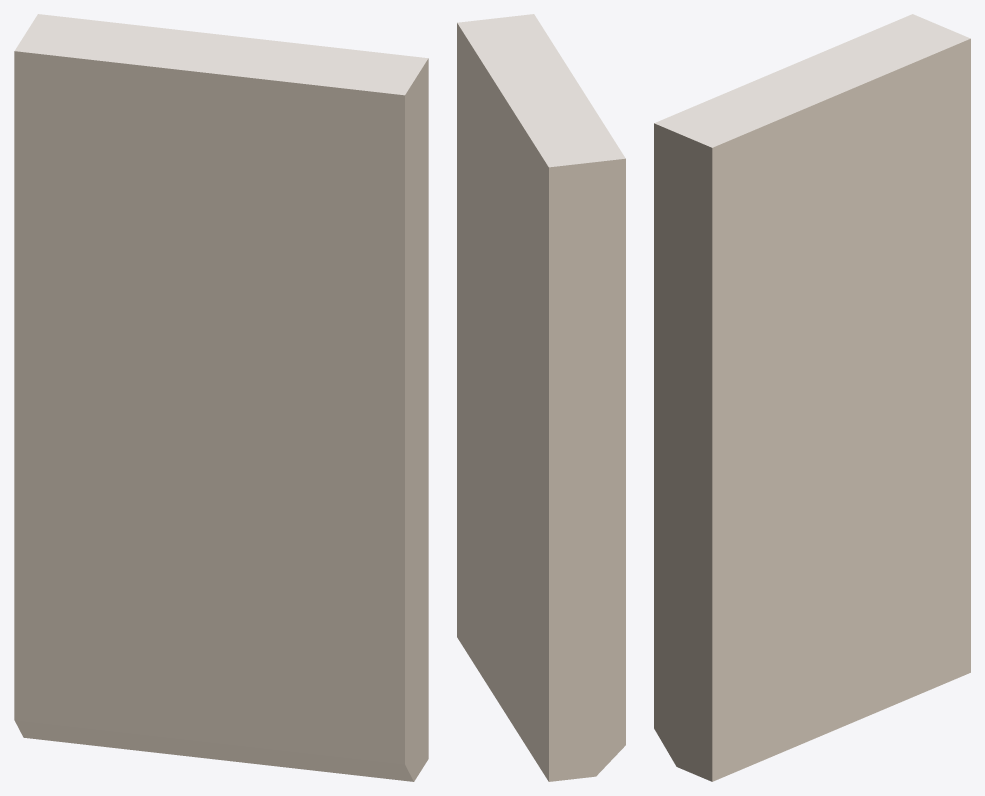
The picture shows the model from 3 angles, left to right: view 1: azimuth 30°, elevation 25°; view 2: azimuth 150°, elevation 25°; view 3: azimuth 270°, elevation 25°; orthographic projection. The views are drawn at different scales.
Visible parts, largest first — view 1: object1.004; view 2: object1.004; view 3: object1.004.
Boxes of the visible parts, x1,y1,x2,y2 form: object1.004: (14,14,428,781); object1.004: (457,14,625,781); object1.004: (654,14,970,781).
Bounding box in the file's own units: 0.9962 × 2.2 × 0.9962.
